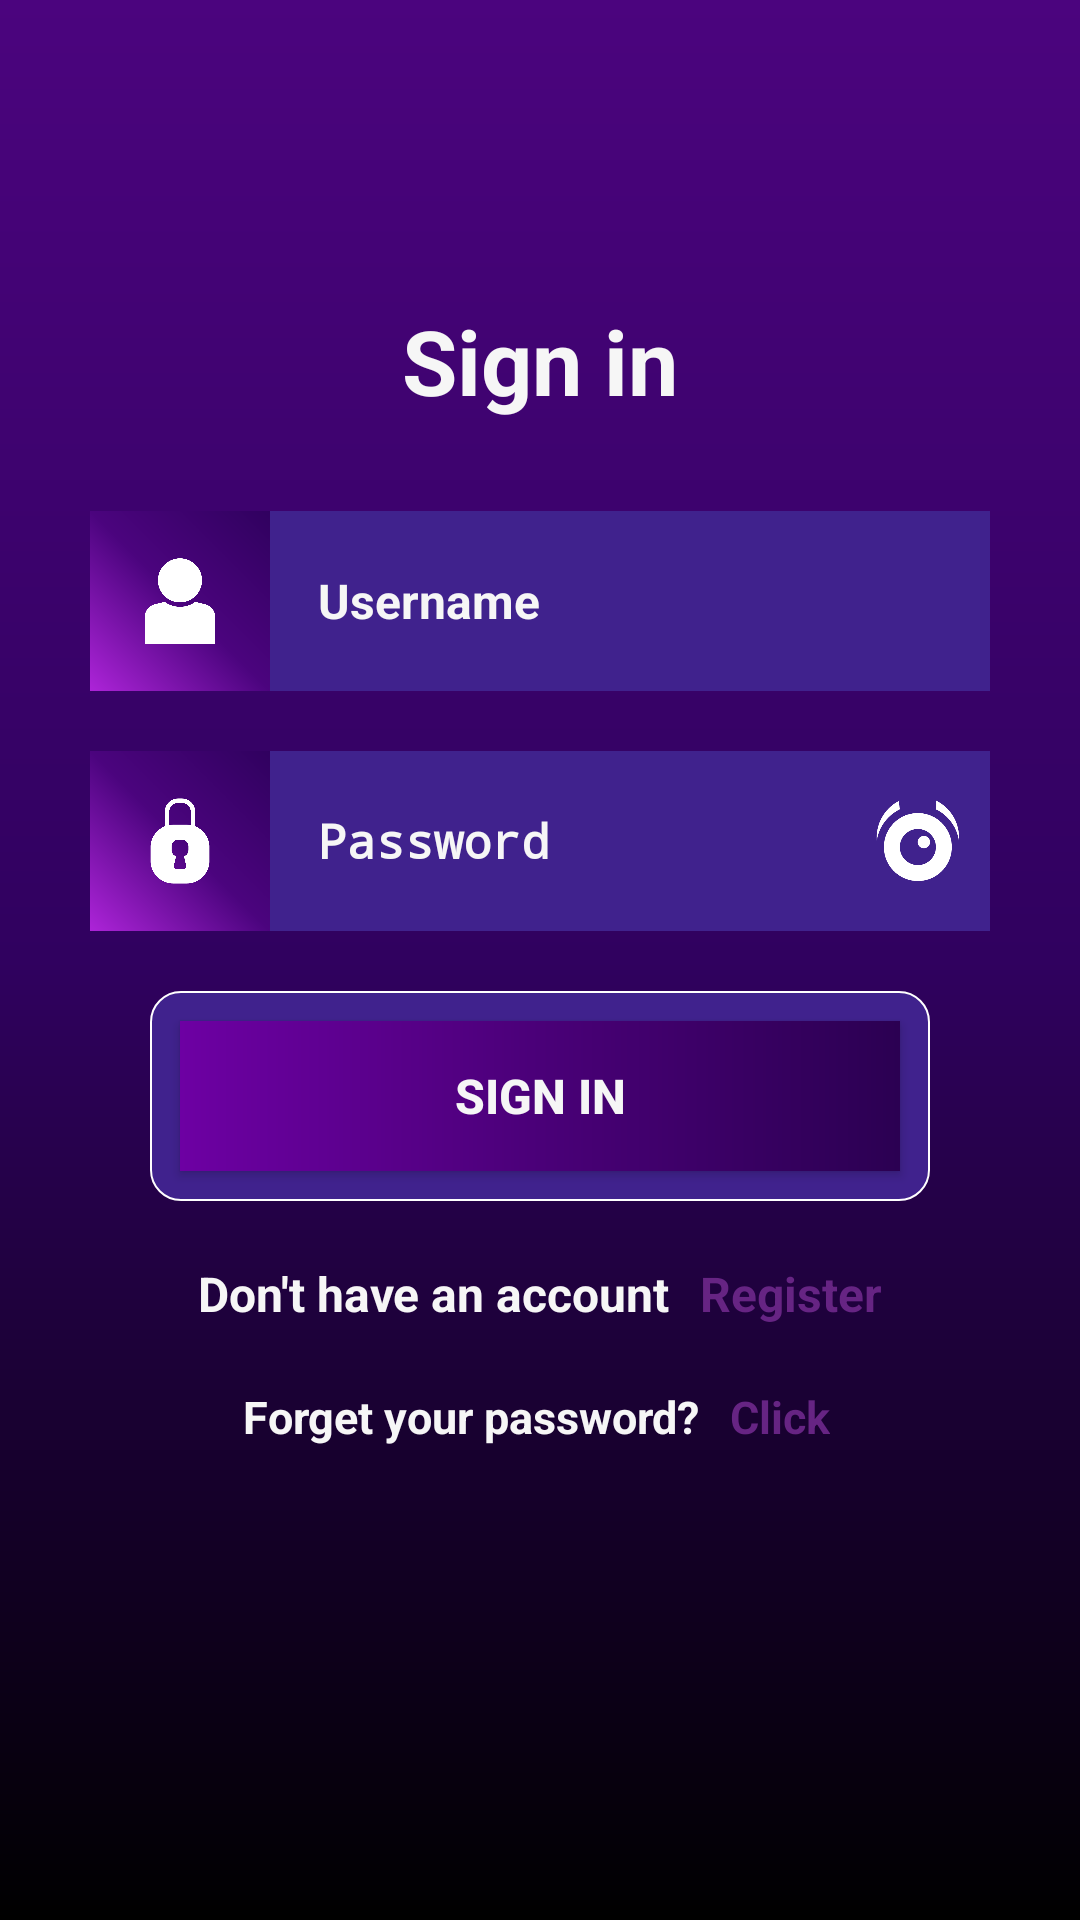

Screen size 1080w x 1920h. Icon name, then its box in pixels as (x1, y1, x2, y2):
person: (90, 522, 259, 691)
